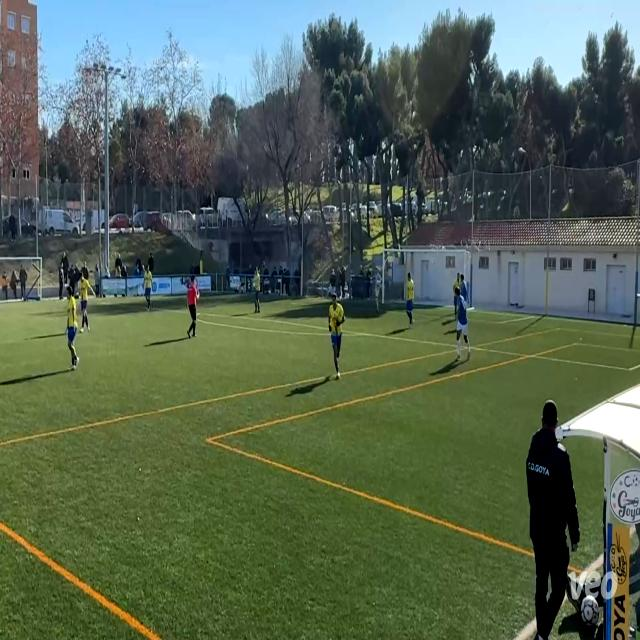bigarea_bottom_inner: (617, 352, 640, 386)
bigarea_top_inner: (96, 299, 102, 310)
bottom_arc_area_intersection: (360, 325, 373, 344)
smallarea_bottom_inner: (492, 316, 506, 330)
smallarea_bottom_outter: (530, 310, 538, 324)
smallarea_top_inner: (289, 296, 294, 312)
smallarea_top_outter: (324, 296, 330, 304)
top_arc_area_intersection: (197, 305, 203, 321)
